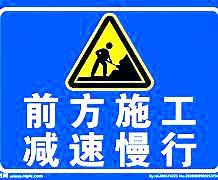sign: (2, 5, 214, 173)
